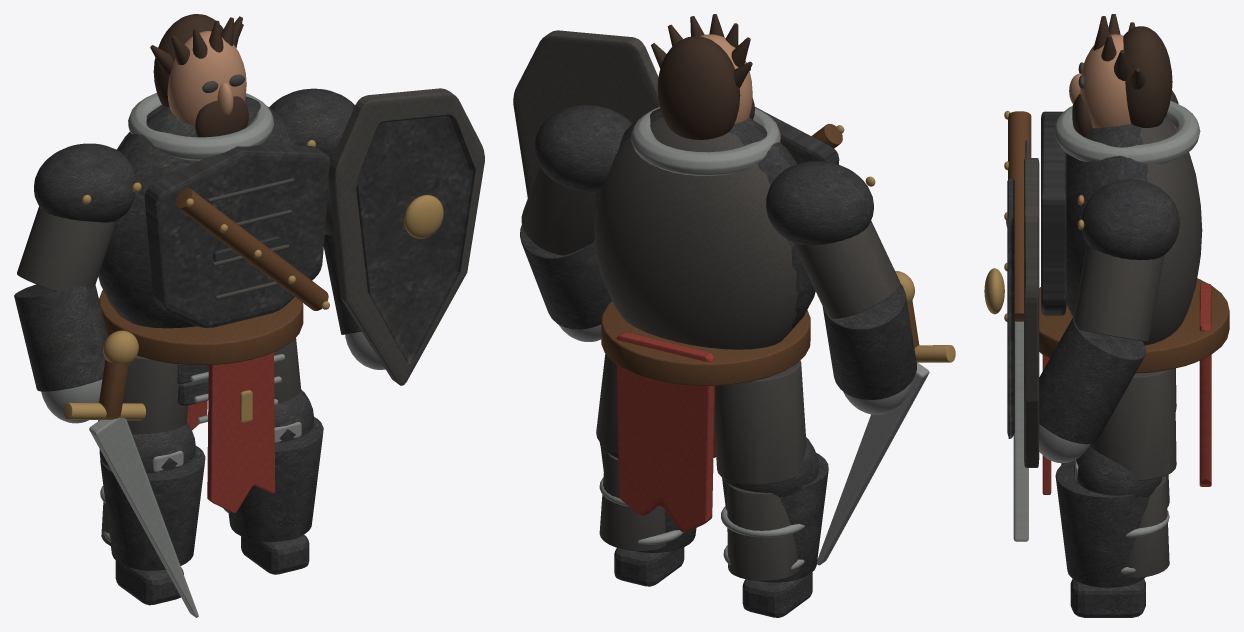
File: warrior-v2.glb
The picture shows the model from 3 angles, left to right: view 1: azimuth 30°, elevation 25°; view 2: azimuth 150°, elevation 25°; view 3: azimuth 270°, elevation 25°; orthographic projection. The views are drawn at different scales.
Parts seen in each view (by area): view 1: breastplate, shield_field, kite_shield, cuirass_mass, tabard, left_vambrace, belt, left_greave, left_pauldron, right_greave, left_upper_arm, sword_blade (+19 smaller); view 2: padded_torso, rear_tabard, kite_shield, left_thigh, belt, left_vambrace, left_pauldron, hair_back, right_pauldron, left_upper_arm, right_vambrace, left_shin (+16 smaller); view 3: right_vambrace, right_greave, padded_torso, right_thigh, right_pauldron, right_upper_arm, cuirass_mass, breastplate, kite_shield, belt, hair_back, gorget (+14 smaller).
Boxes of the visible parts, x1,y1,x2,y2 form: breastplate: (144,144,330,327); shield_field: (356,113,475,363); kite_shield: (328,88,484,385); cuirass_mass: (98,96,297,328); tabard: (207,352,275,513); left_vambrace: (14,284,107,391); belt: (99,290,303,365); left_greave: (100,446,205,570); left_pauldron: (34,143,135,222); right_greave: (228,417,323,541); left_upper_arm: (17,206,115,291); sword_blade: (89,417,198,617); padded_torso: (594,117,797,349); rear_tabard: (616,332,714,532); kite_shield: (513,30,659,197); left_thigh: (714,360,806,484); belt: (601,301,810,385); left_vambrace: (822,283,916,399); left_pauldron: (766,161,873,245); hair_back: (657,36,740,139); right_pauldron: (534,105,632,192); left_upper_arm: (792,220,900,318); right_vambrace: (520,225,611,329); left_shin: (727,483,799,580); right_vambrace: (1039,317,1146,444); right_greave: (1055,460,1149,587); padded_torso: (1139,114,1202,345); right_thigh: (1090,368,1176,480); right_pauldron: (1081,179,1179,260); right_upper_arm: (1073,244,1164,341); cuirass_mass: (1066,124,1148,316); breastplate: (1041,111,1066,315); kite_shield: (1024,158,1039,467); belt: (1039,278,1229,373); hair_back: (1123,26,1172,127); gorget: (1055,100,1200,164).
Bounding box in the file's own units: 1.42 × 1.8 × 0.718.
10 materials, 8 textured.
